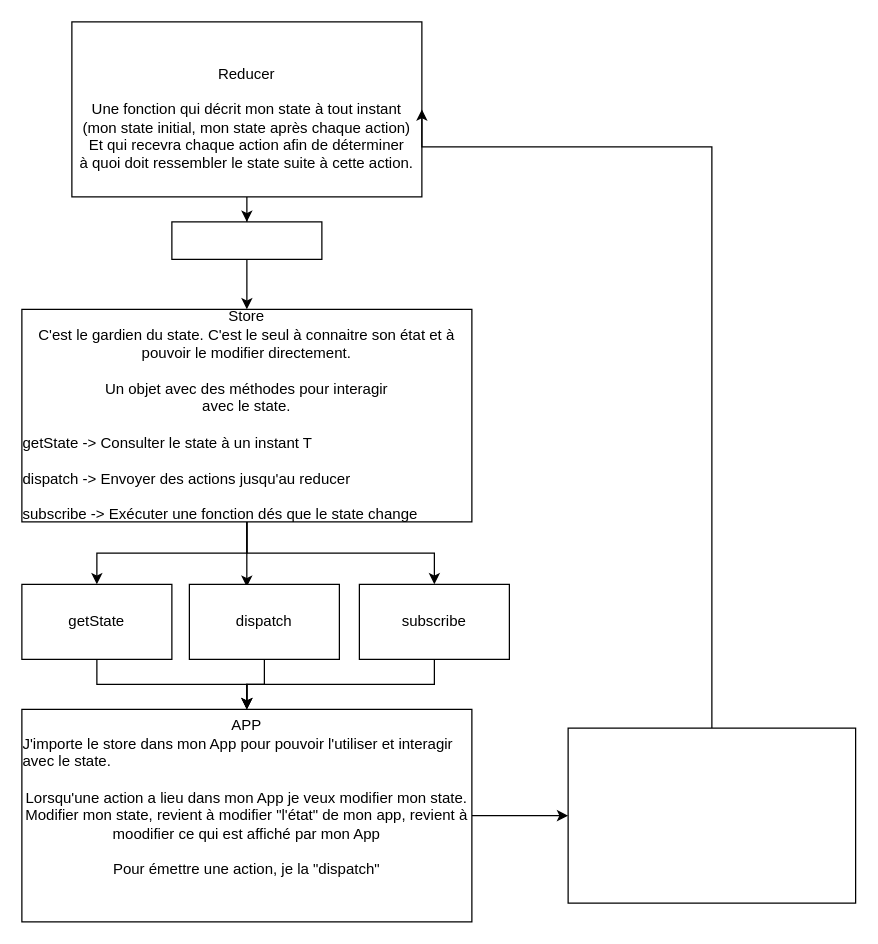
Image size: 878x944. Some labels were removed from this diagram. Here are the shapes that lost their labels. From the top down, the centre of each, then its label:
At (x=246, y=240): "createStore".
At (x=711, y=815): "ACTION { type: 'CHANGE_FIRST_COLOR' }".
